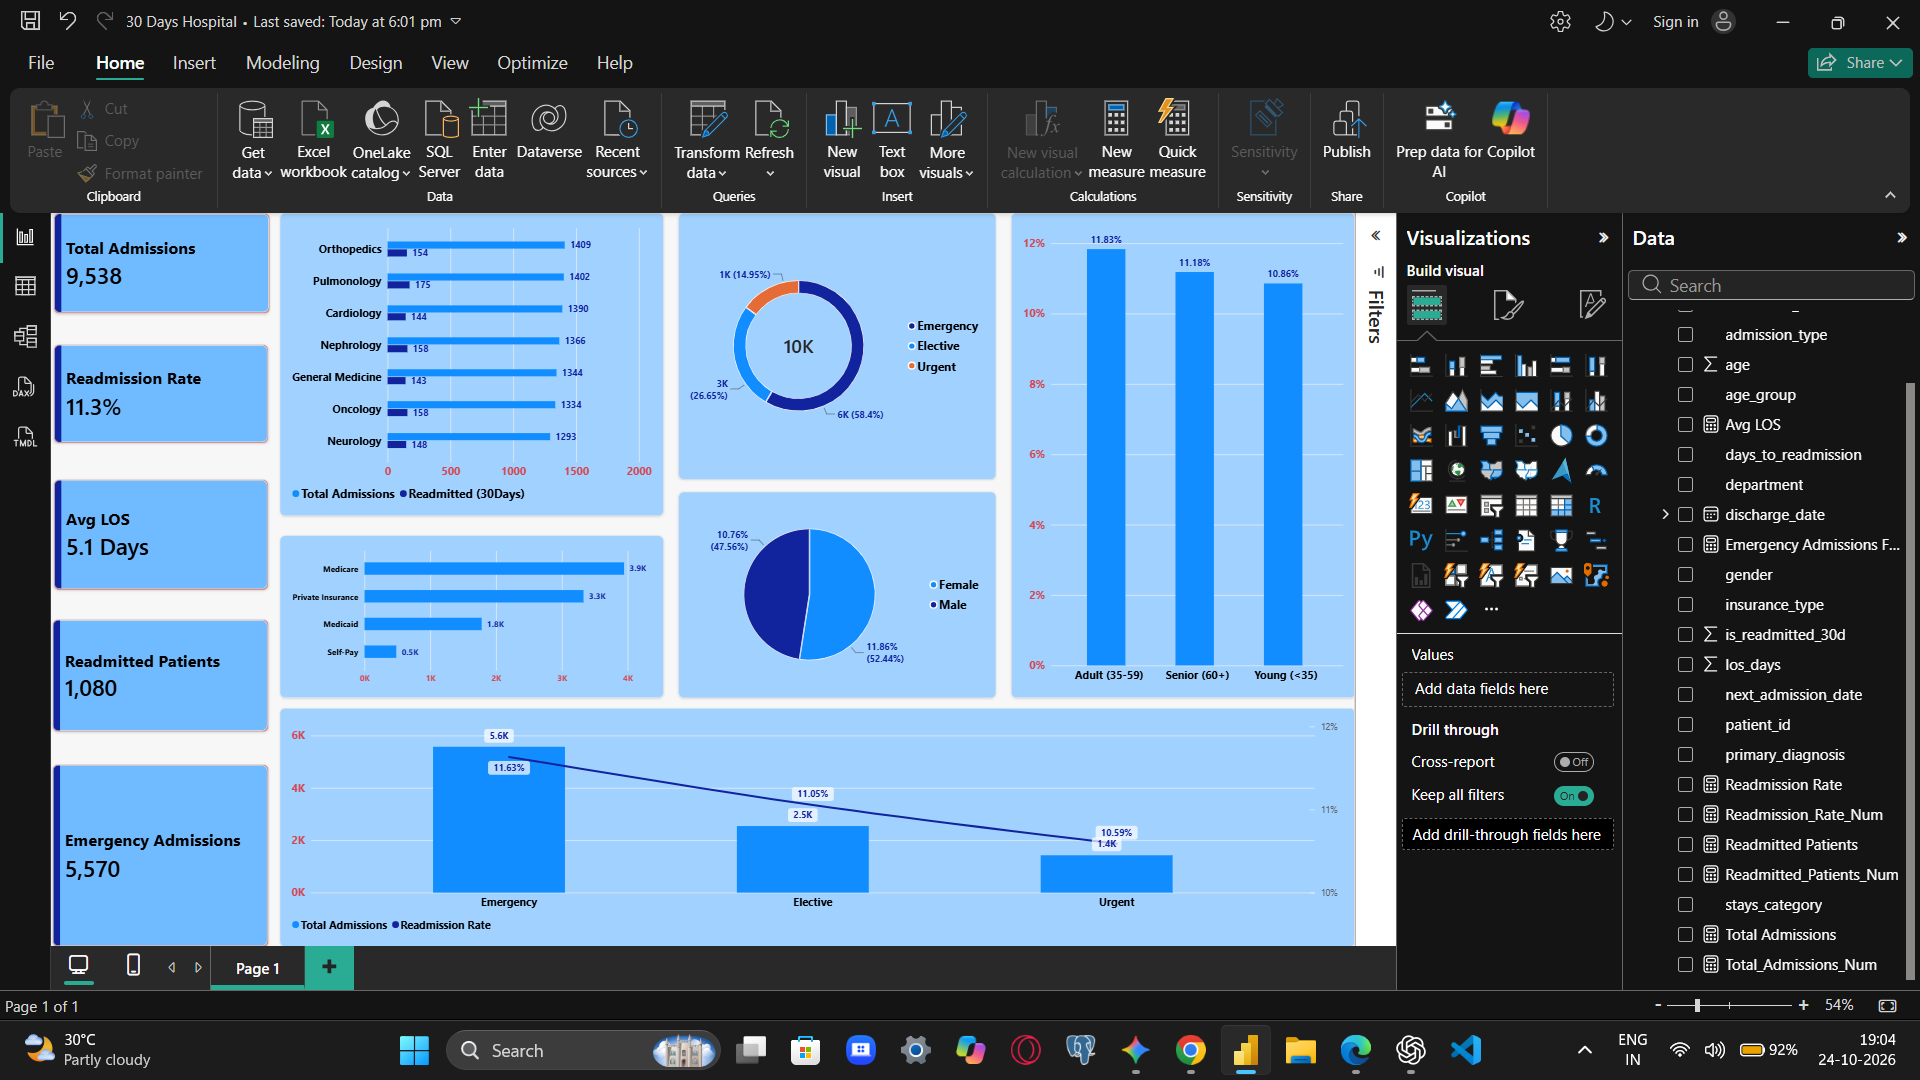

The dashboard page shown, as its layout file describes it:
{"tool":"powerbi","page":{"name":"Page 1","canvas":[1920,1080],"ordinal":0},"visuals":[{"type":"cardVisual","fields":{"Data":["hospital_readmission_master.Total Admissions"]},"box":[4.3,0,319.4,148.9],"z":0},{"type":"cardVisual","fields":{"Data":["hospital_readmission_master.Readmitted Patients"]},"box":[2.2,597.7,319.4,166.2],"z":1000},{"type":"cardVisual","fields":{"Data":["hospital_readmission_master.Readmission Rate"]},"box":[4.3,194.2,317.2,146.7],"z":2000},{"type":"cardVisual","fields":{"Data":["hospital_readmission_master.Avg LOS"]},"box":[4.3,392.7,317.2,164],"z":3000},{"type":"clusteredBarChart","fields":{"Category":["hospital_readmission_master.department"],"Y":["hospital_readmission_master.Total_Admissions_Num","hospital_readmission_master.Readmitted_Patients_Num"]},"box":[336.6,0,565.3,446.7],"z":4000},{"type":"clusteredColumnChart","fields":{"Category":["hospital_readmission_master.age_group"],"Y":["hospital_readmission_master.Readmission_Rate_Num"]},"box":[1413.4,0,507.1,714.2],"z":5000},{"type":"lineClusteredColumnComboChart","fields":{"Category":["hospital_readmission_master.admission_type"],"Y":["hospital_readmission_master.Total_Admissions_Num"],"Y2":["hospital_readmission_master.Readmission_Rate_Num"]},"box":[336.6,729.3,1583.8,351.7],"z":5001},{"type":"donutChart","fields":{"Category":["hospital_readmission_master.admission_type"],"Y":["hospital_readmission_master.Total_Admissions_Num"]},"box":[923.5,0,468.2,392.7],"z":5002},{"type":"cardVisual","fields":{"Data":["hospital_readmission_master.Emergency_Admissions"]},"box":[2.2,811.3,319.4,269.7],"z":5003},{"type":"clusteredBarChart","fields":{"Category":["hospital_readmission_master.insurance_type"],"Y":["hospital_readmission_master.Total_Admissions_Num"]},"box":[336.6,474.7,565.3,239.5],"z":5004},{"type":"pieChart","fields":{"Category":["hospital_readmission_master.gender"],"Y":["hospital_readmission_master.Readmission_Rate_Num"]},"box":[923.5,410,468.2,304.2],"z":5005}]}

Visuals, with their boxes on the page's 1920x1080 design canvas (x1, y1, x2, y2). These are canvas units, not pixel positions in the 1920x1080 screenshot, which may show the page scaled, cropped or inside an application window:
cardVisual - hospital_readmission_master.Total Admissions: pyautogui.locateOnScreen(4, 0, 324, 149)
cardVisual - hospital_readmission_master.Readmitted Patients: pyautogui.locateOnScreen(2, 598, 322, 764)
cardVisual - hospital_readmission_master.Readmission Rate: pyautogui.locateOnScreen(4, 194, 322, 341)
cardVisual - hospital_readmission_master.Avg LOS: pyautogui.locateOnScreen(4, 393, 322, 557)
clusteredBarChart - hospital_readmission_master.department x hospital_readmission_master.Total_Admissions_Num: pyautogui.locateOnScreen(337, 0, 902, 447)
clusteredColumnChart - hospital_readmission_master.age_group x hospital_readmission_master.Readmission_Rate_Num: pyautogui.locateOnScreen(1413, 0, 1920, 714)
lineClusteredColumnComboChart - hospital_readmission_master.admission_type x hospital_readmission_master.Total_Admissions_Num: pyautogui.locateOnScreen(337, 729, 1920, 1081)
donutChart - hospital_readmission_master.admission_type x hospital_readmission_master.Total_Admissions_Num: pyautogui.locateOnScreen(924, 0, 1392, 393)
cardVisual - hospital_readmission_master.Emergency_Admissions: pyautogui.locateOnScreen(2, 811, 322, 1081)
clusteredBarChart - hospital_readmission_master.insurance_type x hospital_readmission_master.Total_Admissions_Num: pyautogui.locateOnScreen(337, 475, 902, 714)
pieChart - hospital_readmission_master.gender x hospital_readmission_master.Readmission_Rate_Num: pyautogui.locateOnScreen(924, 410, 1392, 714)
